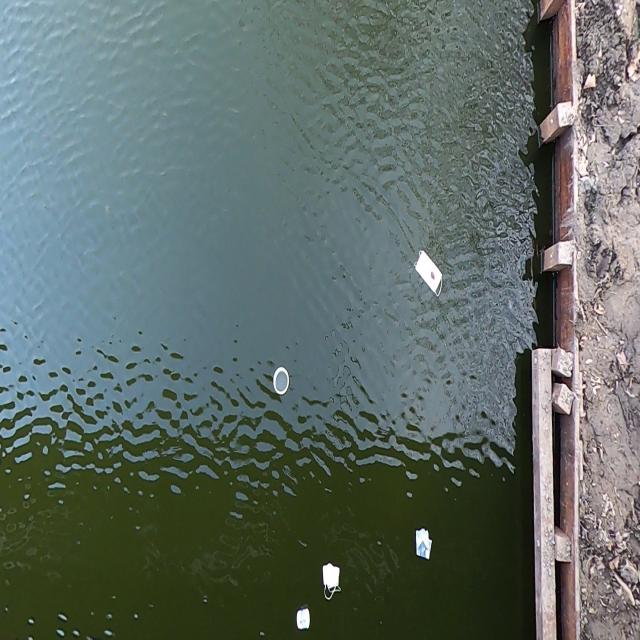Autre plastique: (271, 359, 293, 401)
Non plastique: (410, 242, 448, 304), (314, 562, 345, 603)
